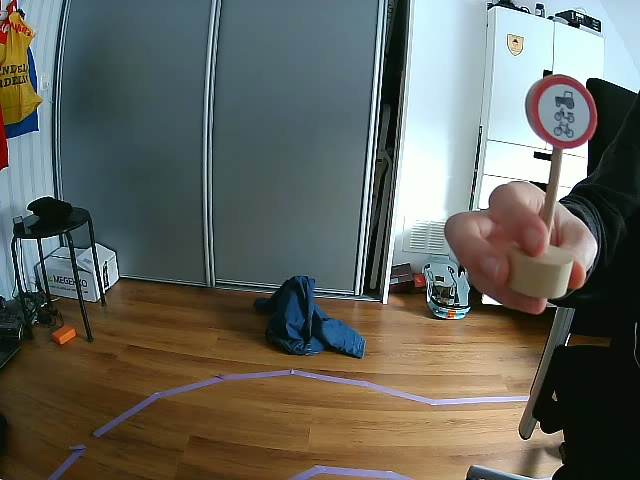fietspad: (526, 74, 597, 148)
